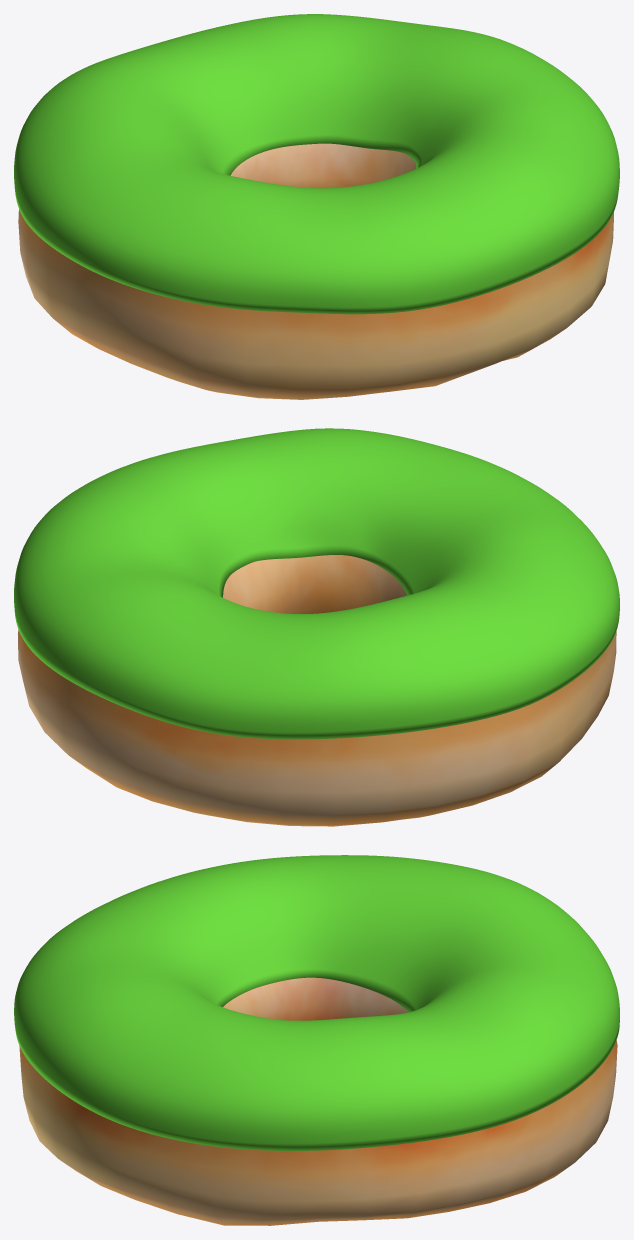
3 renders of one model, top to bottom at view 1: azimuth 30°, elevation 25°; view 2: azimuth 150°, elevation 25°; view 3: azimuth 270°, elevation 25°, orthographic.
Visible parts, largest first — view 1: Torus.002, Torus.001; view 2: Torus.002, Torus.001; view 3: Torus.002, Torus.001.
Part boxes in pixels (left/top/right/bottom): Torus.002: left=14, top=14, right=619, bottom=314; Torus.001: left=18, top=143, right=613, bottom=399; Torus.002: left=14, top=428, right=619, bottom=739; Torus.001: left=18, top=555, right=616, bottom=826; Torus.002: left=14, top=855, right=619, bottom=1150; Torus.001: left=19, top=977, right=617, bottom=1225.
Size of the model in its own units: 1.92 by 0.6906 by 1.92.
Materials: 2 (1 with a texture image).
